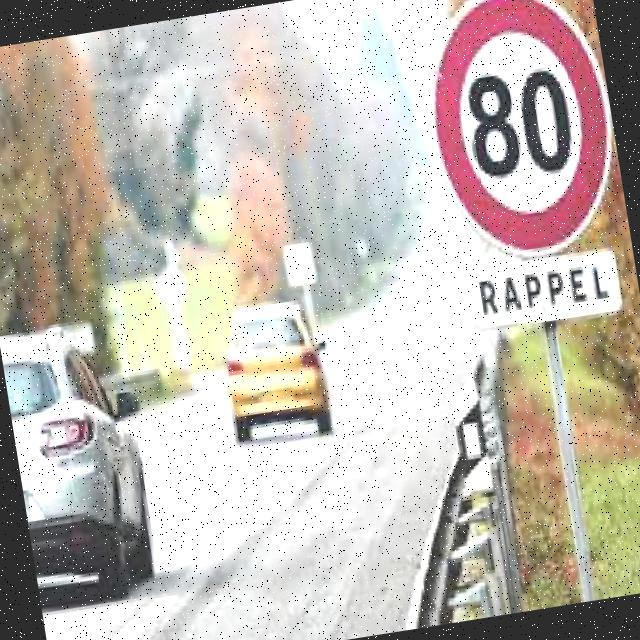Ograniczenie predkosci do 80: (413, 0, 630, 275)
